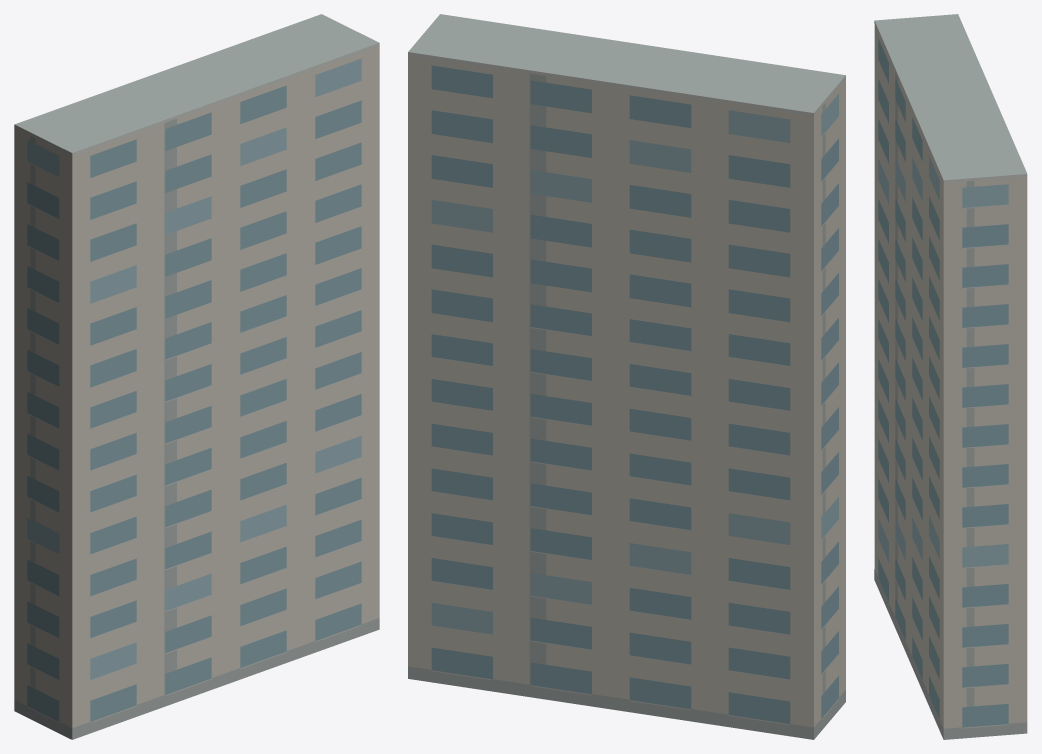
The model's file is residential-9caba74b-148d-47c1-8dfc-f744d672917f.glb.
3 renders of one model, left to right at view 1: azimuth 30°, elevation 25°; view 2: azimuth 150°, elevation 25°; view 3: azimuth 270°, elevation 25°, orthographic. The views are drawn at different scales.
Visible parts, largest first — view 1: residential-9caba74b-148d-47c1-8dfc-f744d672917f.tmp; view 2: residential-9caba74b-148d-47c1-8dfc-f744d672917f.tmp; view 3: residential-9caba74b-148d-47c1-8dfc-f744d672917f.tmp.
Part boxes in pixels (left/top/right/bottom): residential-9caba74b-148d-47c1-8dfc-f744d672917f.tmp: left=14, top=14, right=379, bottom=739; residential-9caba74b-148d-47c1-8dfc-f744d672917f.tmp: left=408, top=14, right=845, bottom=739; residential-9caba74b-148d-47c1-8dfc-f744d672917f.tmp: left=874, top=14, right=1027, bottom=739.
Size of the model in its own units: 29.98 by 47 by 11.66.
